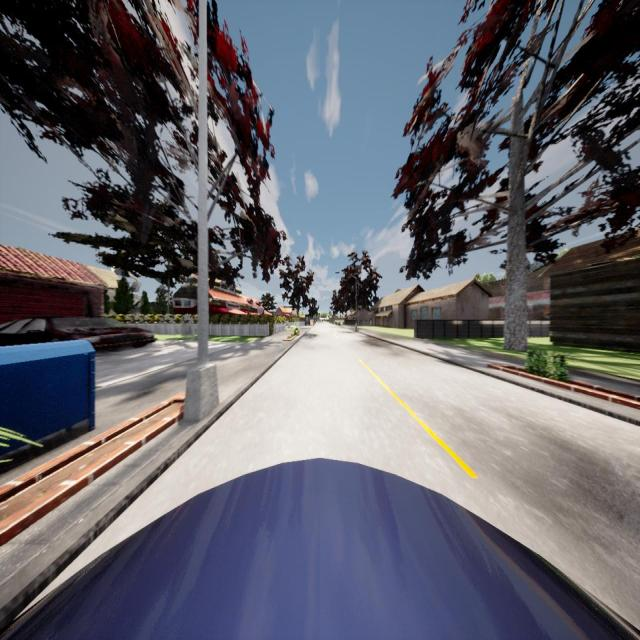Vehicle: (0, 456, 640, 640), (0, 318, 157, 350)
